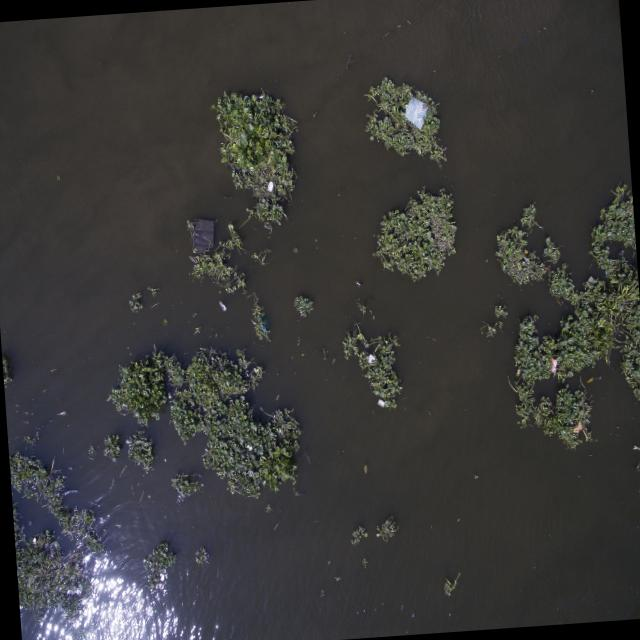Plastic: (184, 216, 218, 264), (404, 98, 428, 130), (257, 315, 271, 333), (550, 356, 558, 376), (367, 352, 377, 365), (266, 180, 276, 192), (376, 397, 386, 408)
